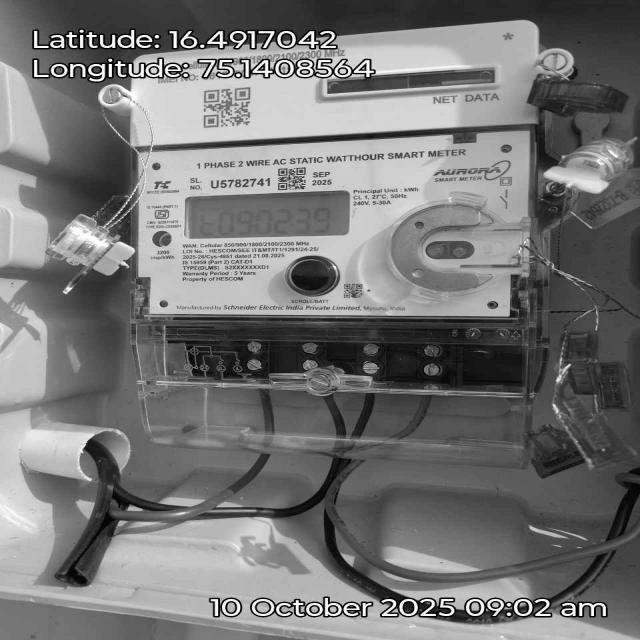meter: (125, 18, 545, 320)
